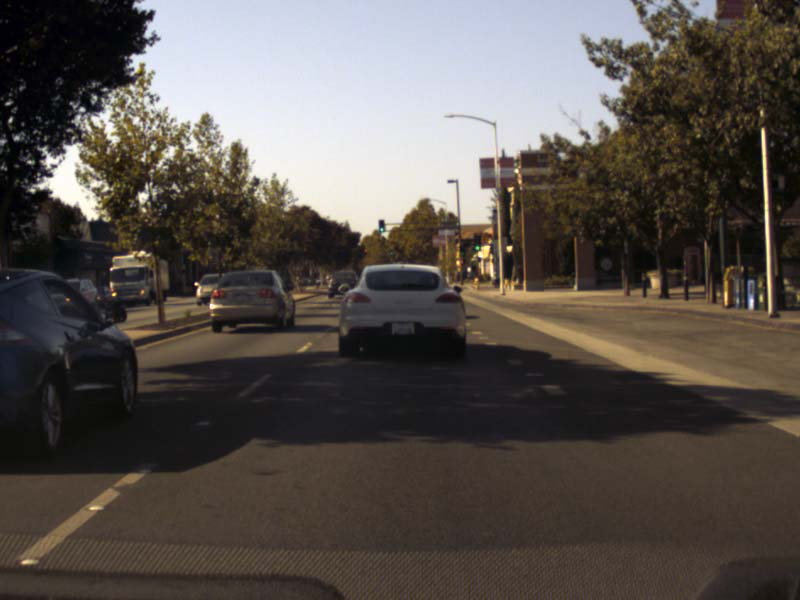Green: (474, 233, 480, 251), (379, 220, 384, 231), (459, 246, 464, 256), (389, 250, 393, 255)
